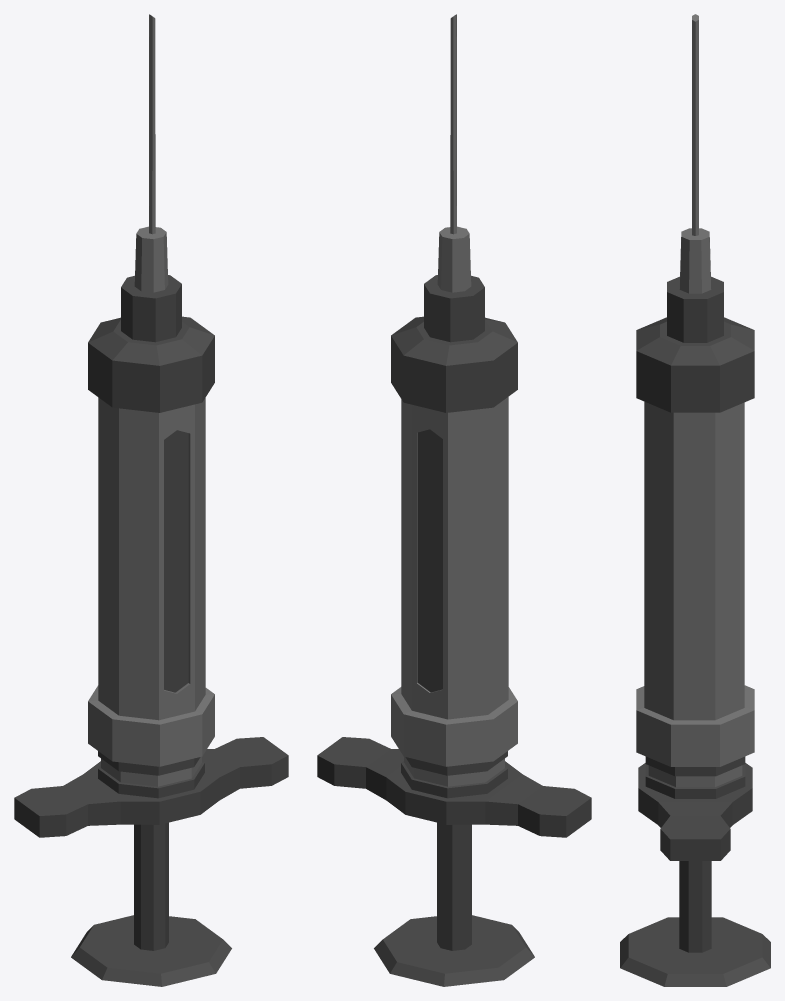
Rendered from MED_Empty.fbx.
The picture shows the model from 3 angles, left to right: view 1: azimuth 30°, elevation 25°; view 2: azimuth 150°, elevation 25°; view 3: azimuth 270°, elevation 25°; orthographic projection.
Visible parts, largest first — view 1: MED Syringe; view 2: MED Syringe; view 3: MED Syringe.
Boxes of the visible parts, box(x1,y1,x2,y2) form: MED Syringe: box(14, 14, 288, 986); MED Syringe: box(317, 14, 591, 986); MED Syringe: box(620, 14, 770, 986).
Size of the model in its own units: 159 by 571 by 82.98.
1 material, 1 textured.
